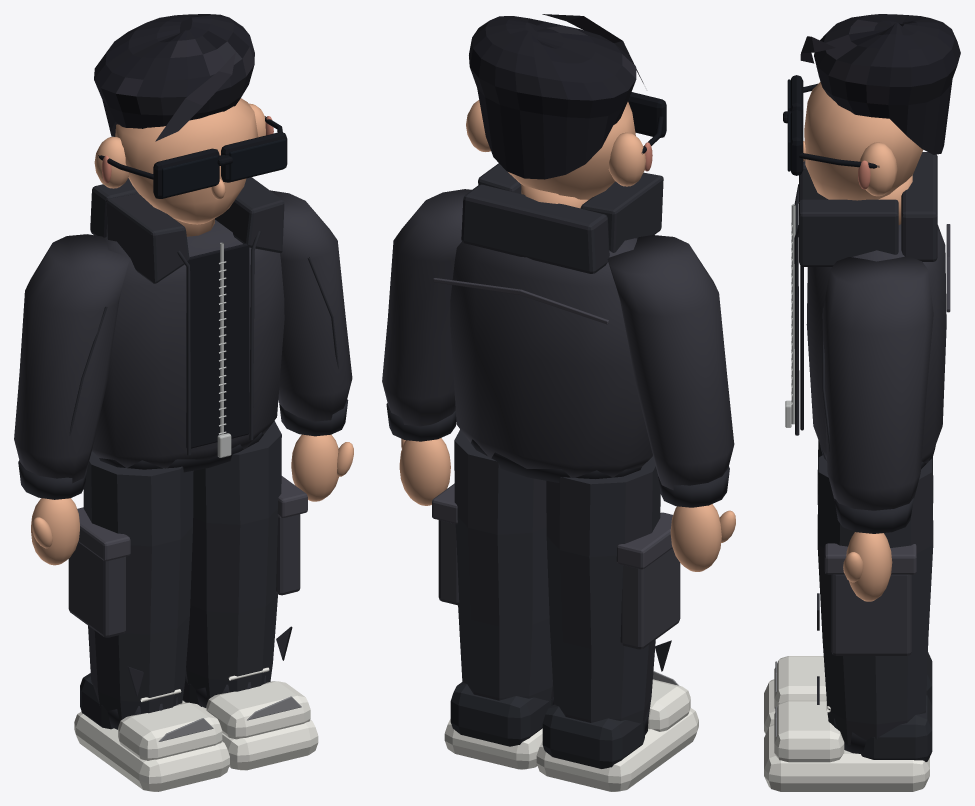
The model's file is cashier-character.glb.
3 renders of one model, left to right at view 1: azimuth 30°, elevation 25°; view 2: azimuth 150°, elevation 25°; view 3: azimuth 270°, elevation 25°, orthographic. The views are drawn at different scales.
Visible parts, largest first — view 1: Web mesh · Jacket · charcoal, Web mesh · Cargo trousers, Web mesh · Sneaker · warm white, Web mesh · Skin · warm peach clay, Asymmetric swept hair silhouette, Web mesh · Jacket · lower fold, Black tee visible between jacket panels, Web mesh · Cargo pocket, Web mesh · Ribbing, Web mesh · Sunglasses · blue black, Web mesh · Jacket · upper fold, Web mesh · Sunglasses · frame (+4 smaller); view 2: Web mesh · Jacket · charcoal, Web mesh · Cargo trousers, Asymmetric swept hair silhouette, Web mesh · Jacket · lower fold, Web mesh · Skin · warm peach clay, Web mesh · Sneaker · black panel, Web mesh · Sneaker · warm white, Web mesh · Cargo pocket, Web mesh · Ribbing, Web mesh · Jacket · upper fold, Web mesh · Sunglasses · frame, Swept diagonal forelock; view 3: Web mesh · Jacket · charcoal, Web mesh · Cargo trousers, Asymmetric swept hair silhouette, Web mesh · Sneaker · warm white, Web mesh · Jacket · lower fold, Web mesh · Skin · warm peach clay, Web mesh · Cargo pocket, Web mesh · Sneaker · black panel, Web mesh · Ribbing, Web mesh · Sunglasses · frame, Web mesh · Jacket · upper fold, Web mesh · Silver zipper (+2 smaller).
Boxes of the visible parts, left/top/right/bottom form: Web mesh · Jacket · charcoal: left=14, top=190, right=352, bottom=483; Web mesh · Cargo trousers: left=83, top=421, right=281, bottom=721; Web mesh · Sneaker · warm white: left=74, top=667, right=318, bottom=791; Web mesh · Skin · warm peach clay: left=31, top=98, right=353, bottom=565; Asymmetric swept hair silhouette: left=94, top=14, right=254, bottom=136; Web mesh · Jacket · lower fold: left=69, top=177, right=338, bottom=696; Black tee visible between jacket panels: left=186, top=243, right=249, bottom=448; Web mesh · Cargo pocket: left=68, top=514, right=300, bottom=637; Web mesh · Ribbing: left=18, top=399, right=348, bottom=729; Web mesh · Sunglasses · blue black: left=162, top=139, right=285, bottom=197; Web mesh · Jacket · upper fold: left=77, top=476, right=307, bottom=561; Web mesh · Sunglasses · frame: left=98, top=116, right=287, bottom=198; Web mesh · Jacket · charcoal: left=382, top=189, right=734, bottom=490; Web mesh · Cargo trousers: left=454, top=429, right=660, bottom=725; Asymmetric swept hair silhouette: left=469, top=16, right=636, bottom=179; Web mesh · Jacket · lower fold: left=461, top=163, right=671, bottom=671; Web mesh · Skin · warm peach clay: left=399, top=100, right=735, bottom=571; Web mesh · Sneaker · black panel: left=450, top=682, right=644, bottom=768; Web mesh · Sneaker · warm white: left=444, top=679, right=698, bottom=791; Web mesh · Cargo pocket: left=438, top=520, right=680, bottom=649; Web mesh · Ribbing: left=386, top=403, right=729, bottom=734; Web mesh · Jacket · upper fold: left=432, top=278, right=672, bottom=569; Web mesh · Sunglasses · frame: left=628, top=92, right=666, bottom=154; Swept diagonal forelock: left=542, top=14, right=643, bottom=83; Web mesh · Jacket · charcoal: left=806, top=224, right=946, bottom=510; Web mesh · Cargo trousers: left=817, top=440, right=933, bottom=745; Asymmetric swept hair silhouette: left=814, top=14, right=960, bottom=154; Web mesh · Sneaker · warm white: left=764, top=656, right=929, bottom=791; Web mesh · Jacket · lower fold: left=794, top=152, right=937, bottom=704; Web mesh · Skin · warm peach clay: left=803, top=82, right=922, bottom=601; Web mesh · Cargo pocket: left=831, top=574, right=911, bottom=655; Web mesh · Sneaker · black panel: left=861, top=652, right=932, bottom=761; Web mesh · Ribbing: left=820, top=445, right=935, bottom=754; Web mesh · Sunglasses · frame: left=783, top=75, right=879, bottom=175; Web mesh · Jacket · upper fold: left=824, top=224, right=950, bottom=574; Web mesh · Silver zipper: left=785, top=204, right=795, bottom=427.
Bounding box in the file's own units: 1.51 × 3.15 × 0.76.
